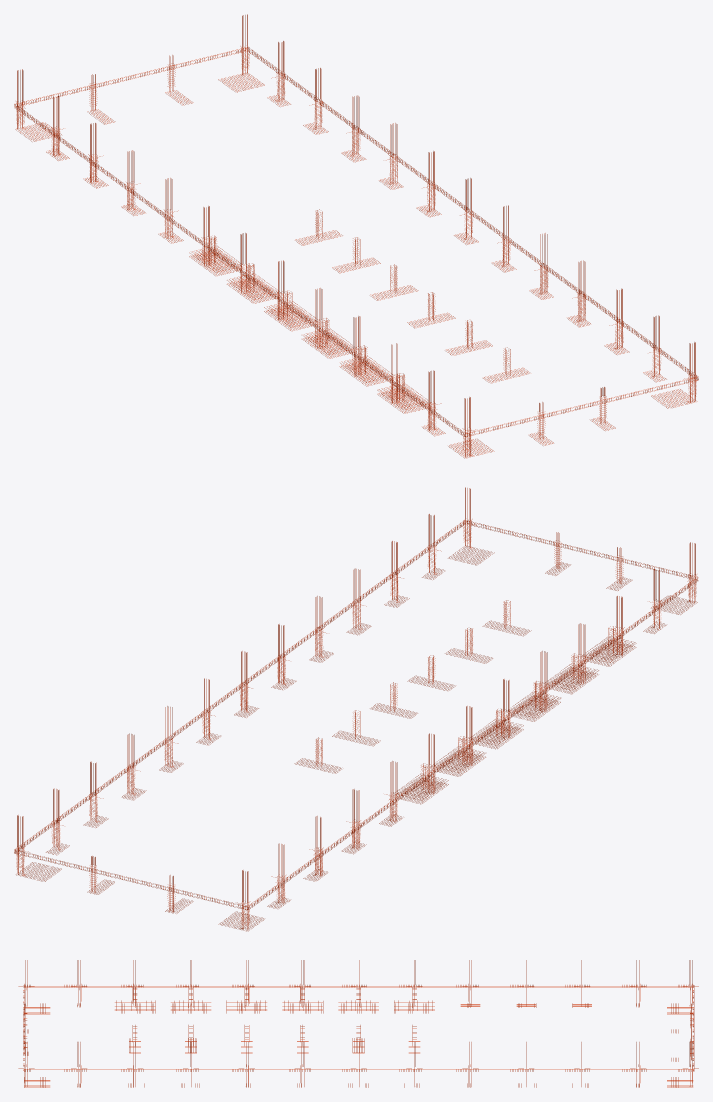
Rendered from besi1.glb.
The picture shows the model from 3 angles, top to bottom: view 1: azimuth 30°, elevation 25°; view 2: azimuth 150°, elevation 25°; view 3: azimuth 270°, elevation 25°; orthographic projection. The views are drawn at different scales.
Parts seen in each view (by area): view 1: besi1; view 2: besi1; view 3: besi1.
Part boxes in pixels (x1=…): besi1: x1=14, y1=14, x2=698, y2=458; besi1: x1=14, y1=487, x2=698, y2=931; besi1: x1=18, y1=960, x2=698, y2=1087.
Size of the model in its own units: 18.02 by 4.35 by 61.27.
